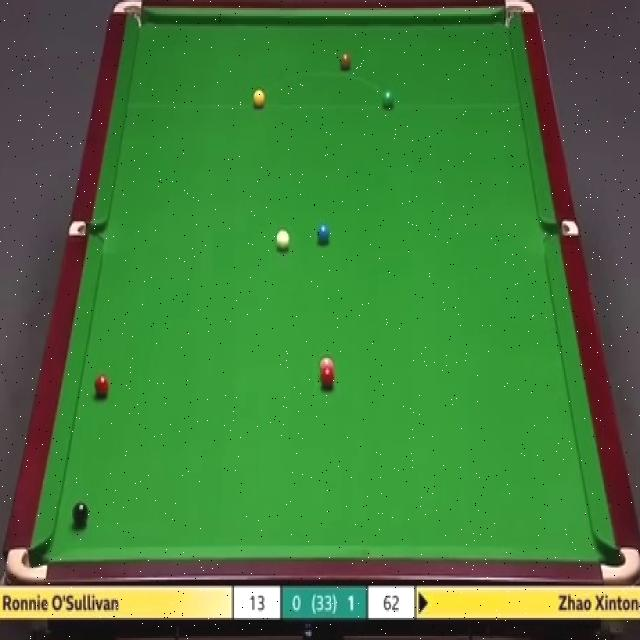black-ball: (71, 501, 90, 528)
blue-ball: (316, 222, 331, 242)
brown-ball: (338, 50, 352, 72)
green-ball: (381, 87, 394, 109)
pink-ball: (318, 356, 335, 366)
red-ball: (93, 373, 110, 399), (320, 368, 334, 390)
white-ball: (275, 229, 290, 251)
yellow-ball: (252, 89, 266, 109)
